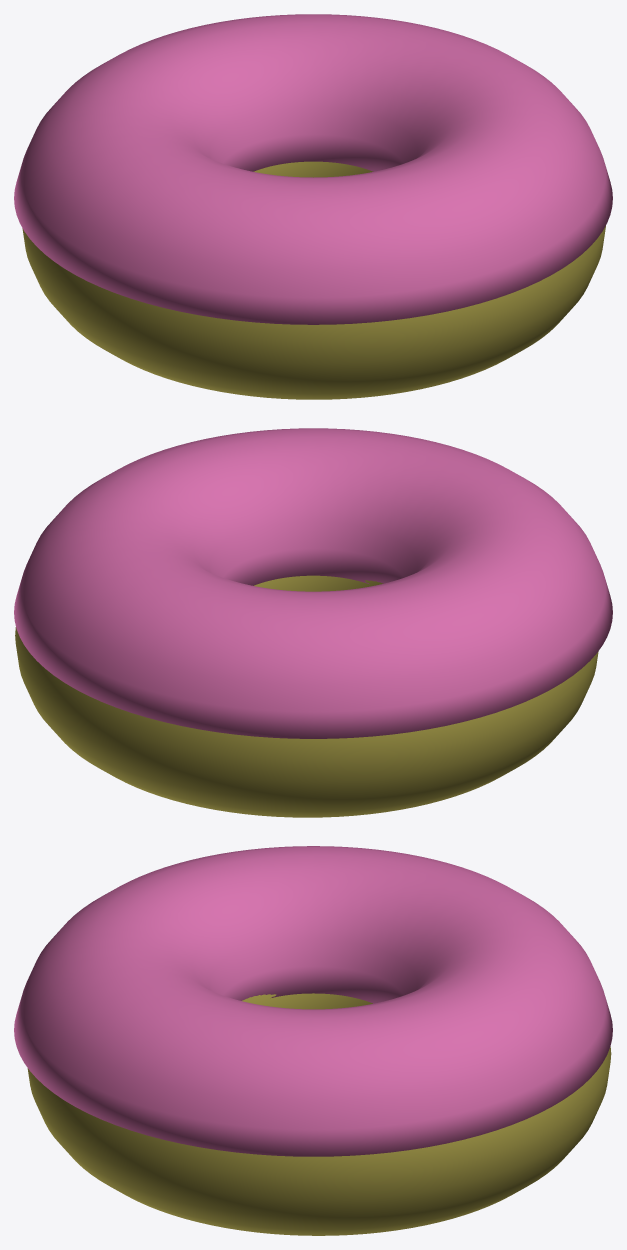
File: dona.fbx
3 renders of one model, top to bottom at view 1: azimuth 30°, elevation 25°; view 2: azimuth 150°, elevation 25°; view 3: azimuth 270°, elevation 25°, orthographic.
Parts seen in each view (by area): view 1: Torus_000, Torus_002; view 2: Torus_000, Torus_002; view 3: Torus_000, Torus_002.
Boxes of the visible parts, x1,y1,x2,y2 form: Torus_000: (14,14,612,324); Torus_002: (22,161,605,399); Torus_000: (14,428,612,738); Torus_002: (15,575,598,817); Torus_000: (14,846,612,1156); Torus_002: (27,993,611,1235).
Size of the model in its own units: 3.13 by 1.2 by 3.13.
